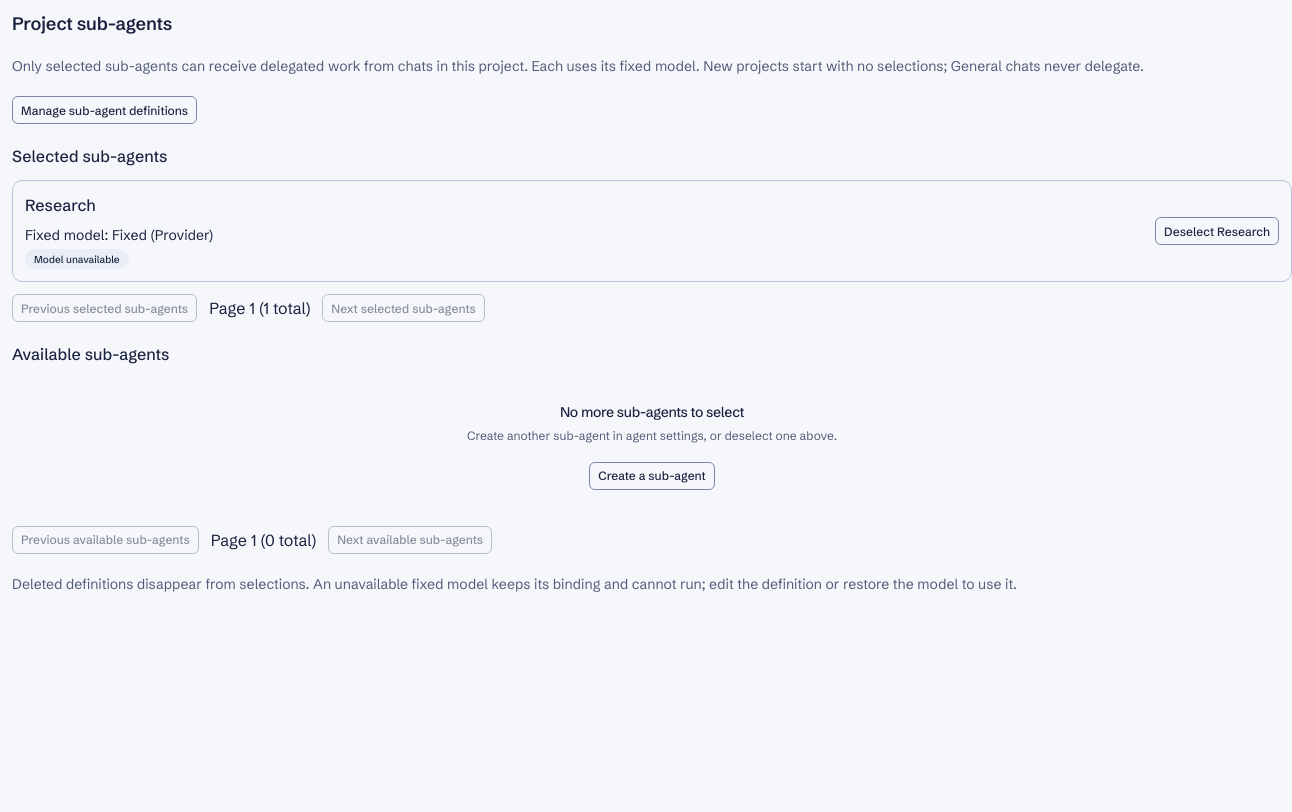
Test: retains selection on conflict until explicit reload and allows removing unavailable workers
Click the button "Deselect Research" at (1217, 231), box x1=1155 y1=217 x2=1279 y2=245
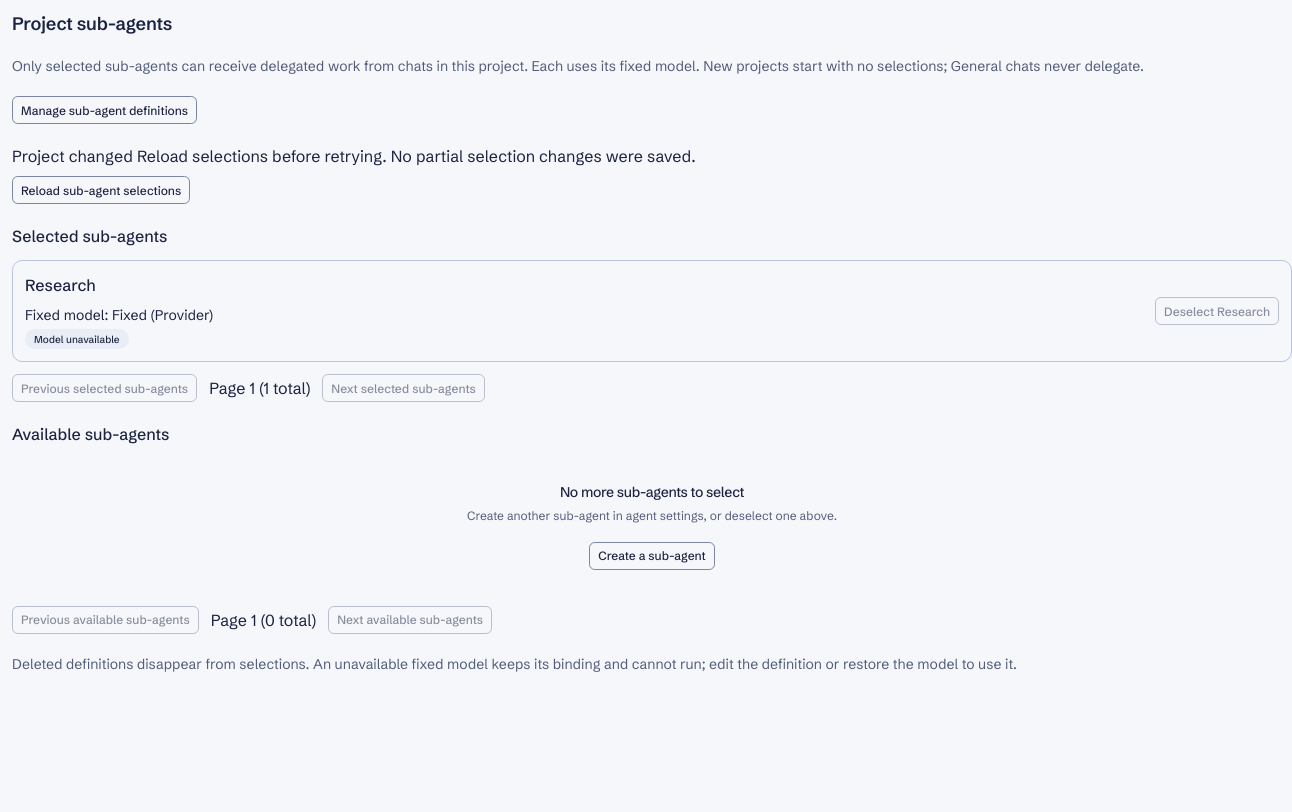
Expected: the message shows "Project changed", x1=12 y1=146 x2=133 y2=166
Expected: the button "Deselect Research" is disabled, x1=1155 y1=297 x2=1279 y2=325
Click the button "Reload sub-agent selections" at (101, 190), box x1=12 y1=176 x2=190 y2=204
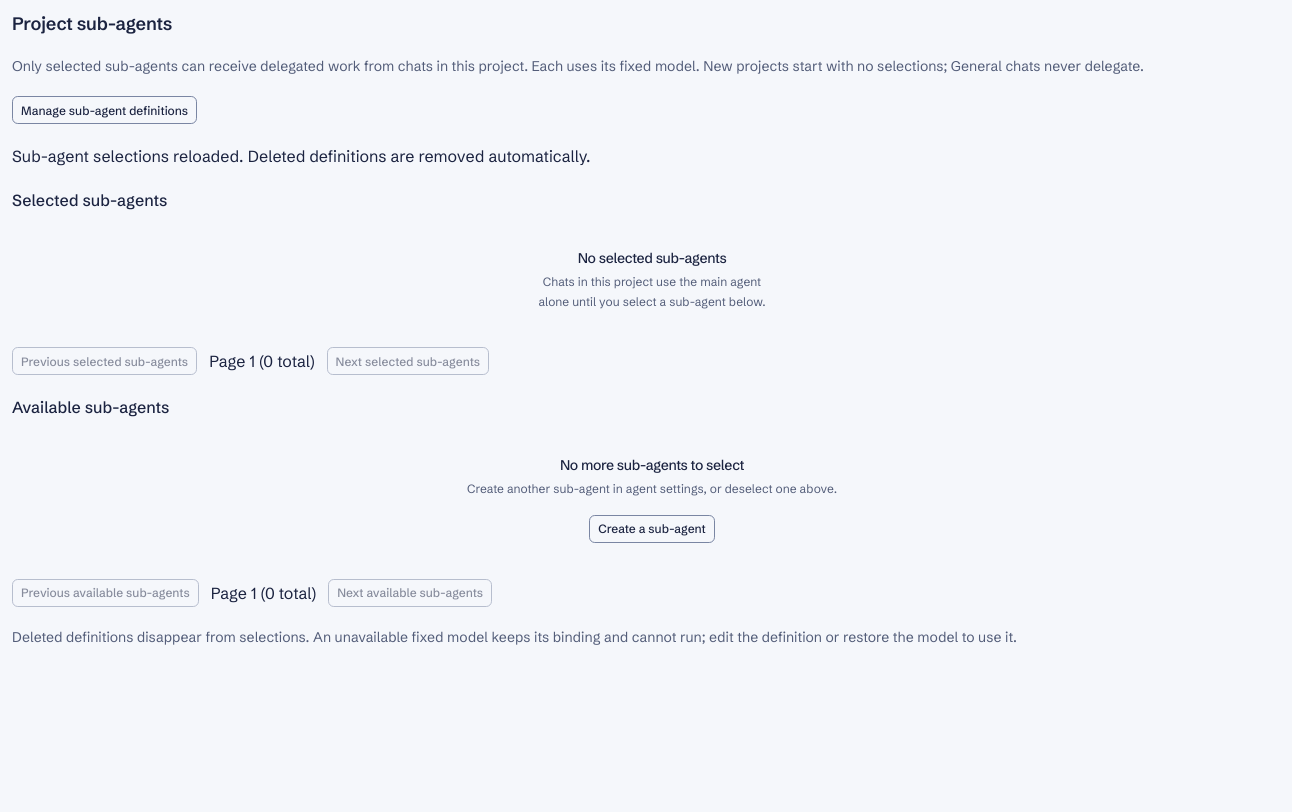
Expected: the text "No selected sub-agents" is shown, x1=578 y1=248 x2=726 y2=268
